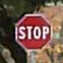stop: (14, 11, 52, 51)
